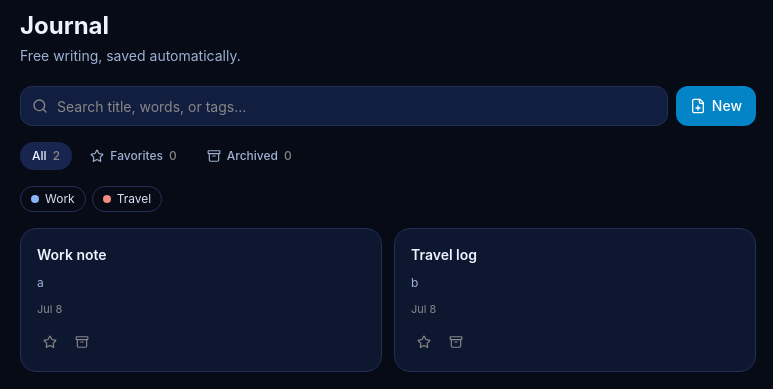
it: JournalHome › filters entries by collection
Click the button "Work". click: point(53, 199)
box: [20,186,86,212]
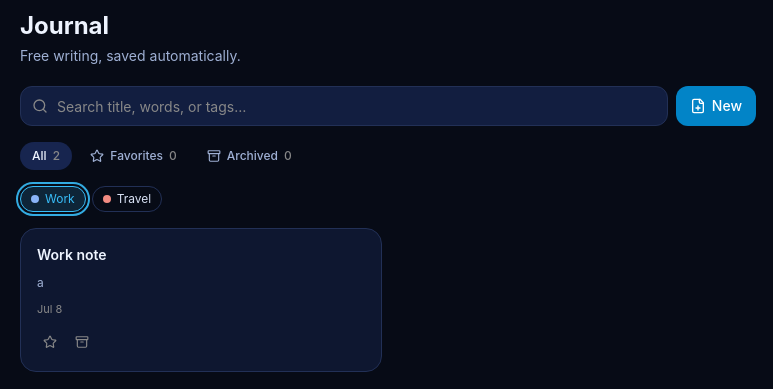
Expected: the button "Work note" is shown, [37,245,107,265]
Expected: the button "Travel log" is gone
Click the button "Work". click: point(53, 199)
box: [20,186,86,212]
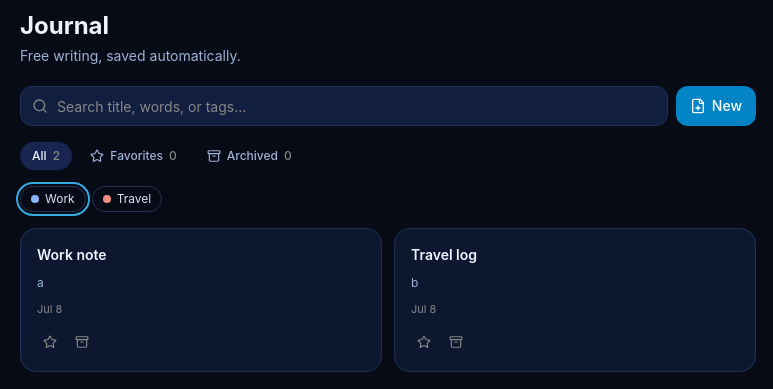
Expected: the button "Travel log" is shown, [411,245,477,265]
